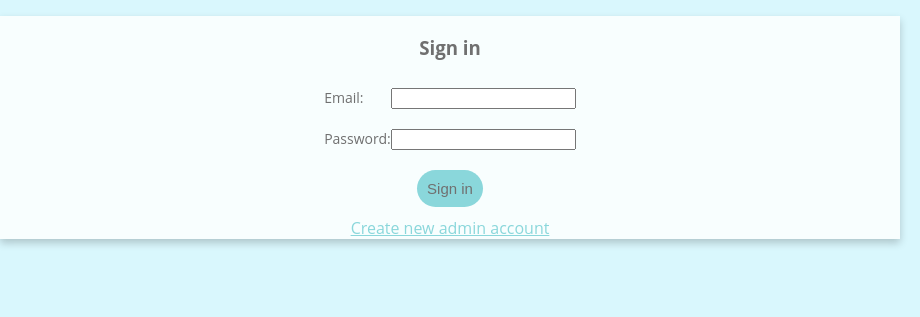
Test: SignIn › should not log in with incorrect details
Type "adriana1@test.com" into the field with test id "email" at (483, 99), box [391,88,576,109]
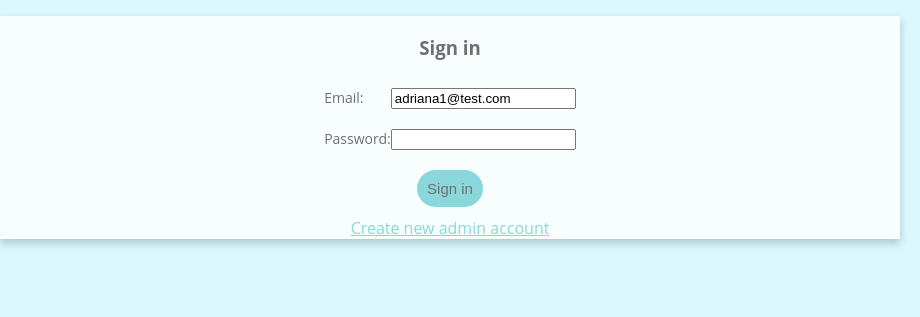
Type "wrongpassword" into the password field with test id "password" at (483, 140), box [391,129,576,150]
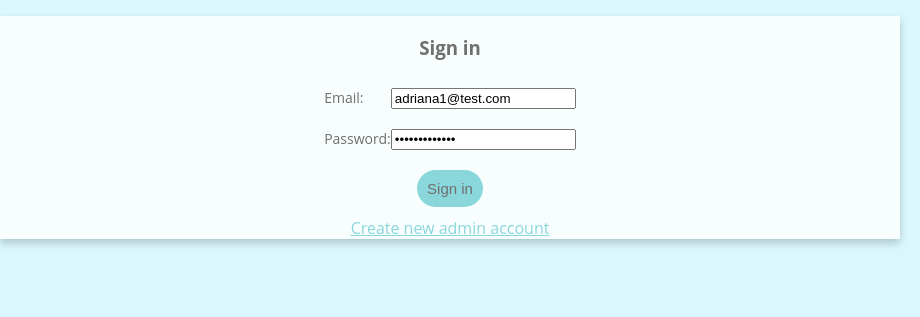
Click the button with test id "submitButton" at (450, 189), box [417,170,483,207]
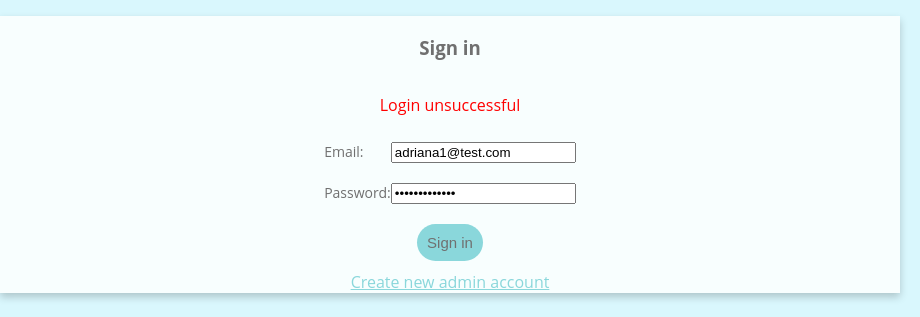
Expected: the text "Login unsuccessful" is shown, [380,94,520,116]
